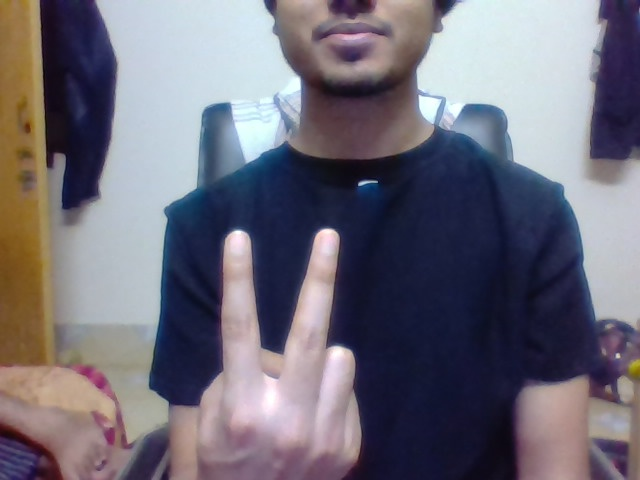V: (216, 224, 344, 371)
